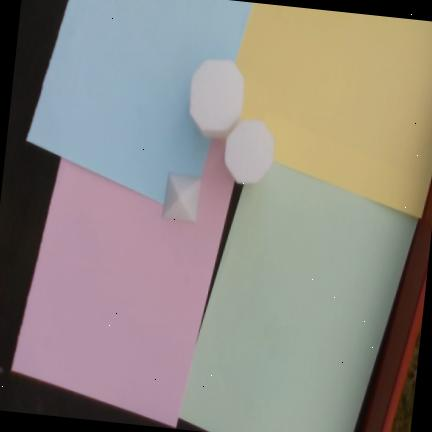Piramide: (162, 173, 202, 223)
Prisma_hexagonal: (188, 59, 244, 138), (224, 119, 275, 185)
